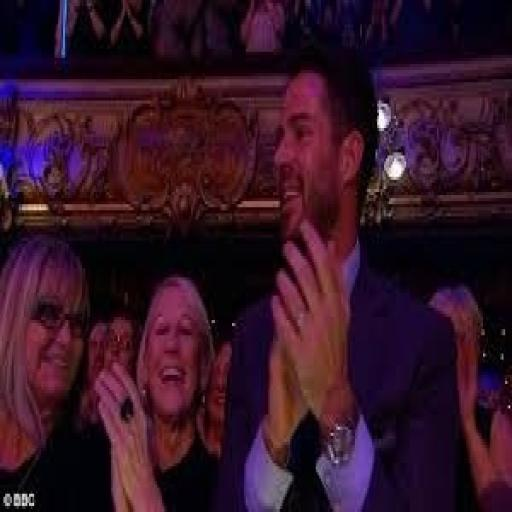clapping: (216, 40, 462, 509), (94, 271, 225, 509), (0, 225, 109, 509)
